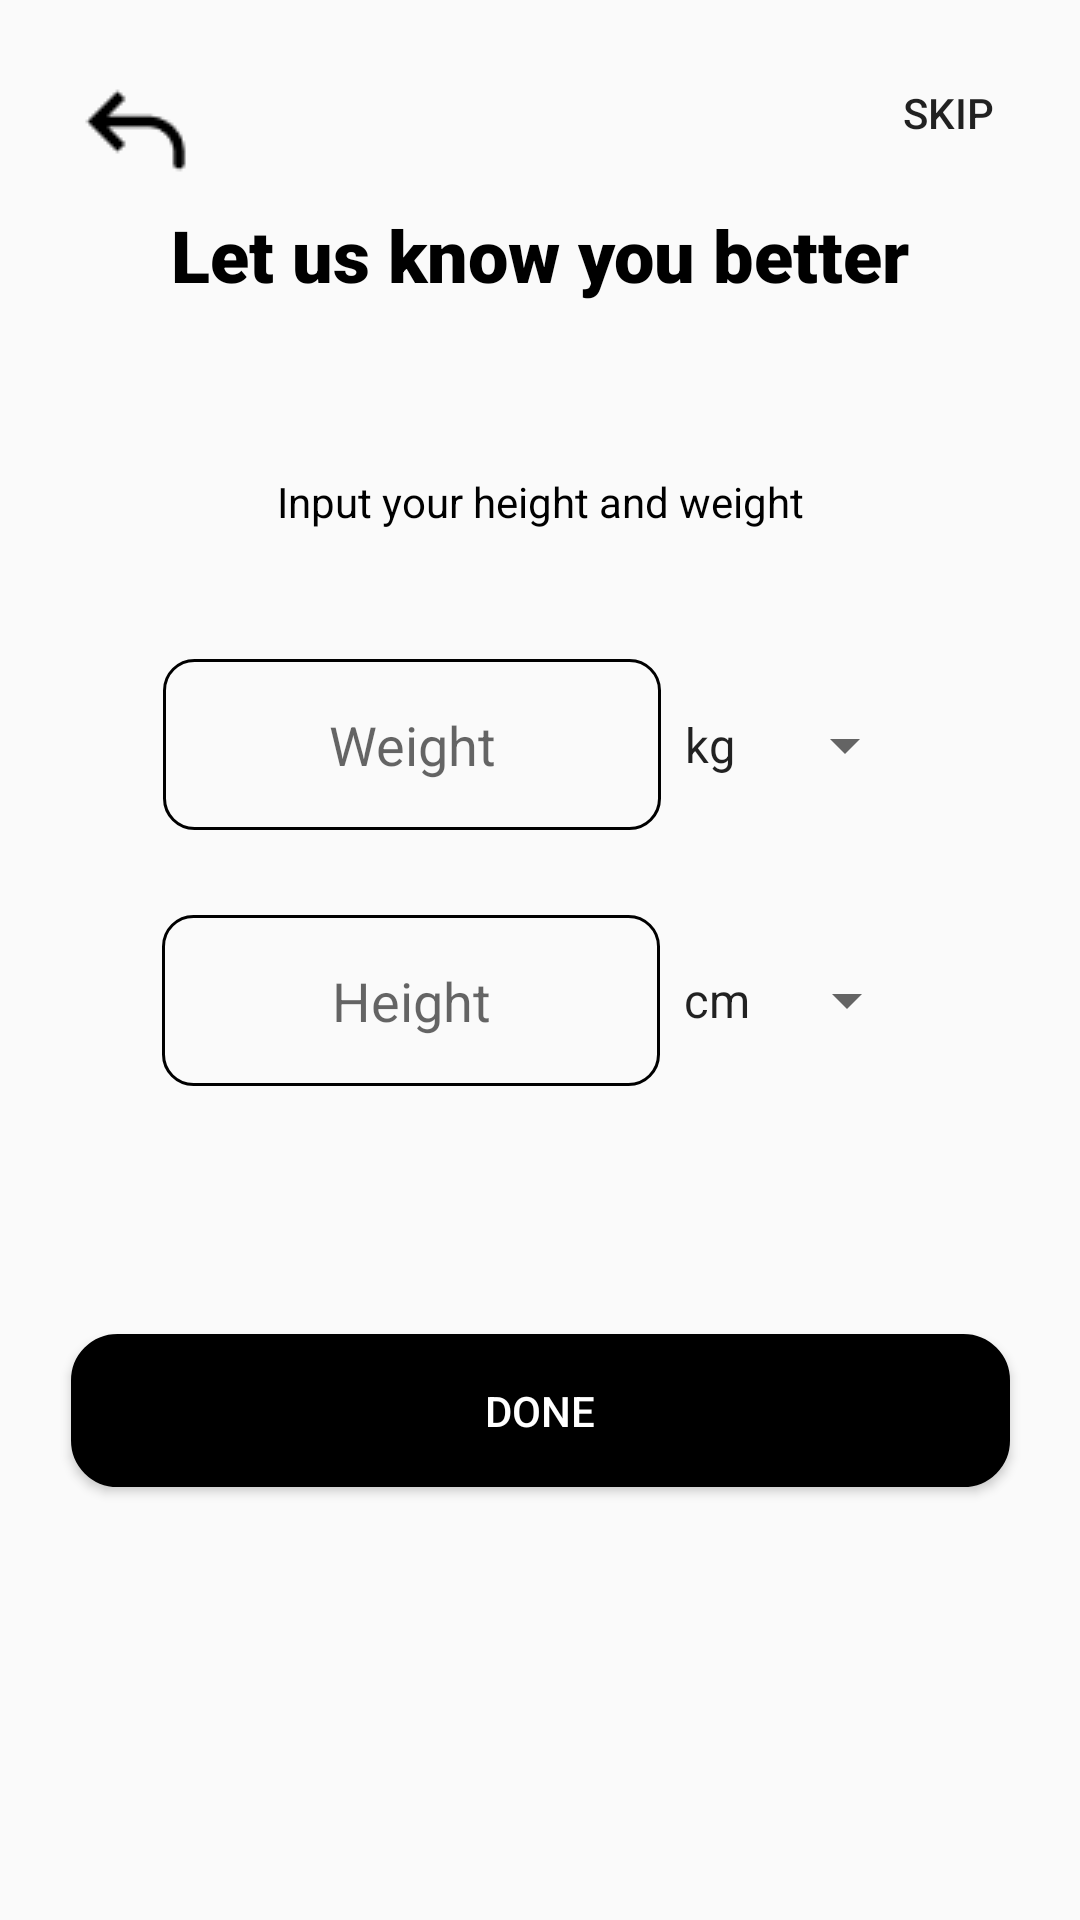

Screen size 1080px x 1920px. Icon name, then its center in pixels as point (x, y):
lets back: point (136, 130)
